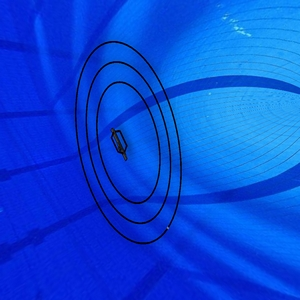circle: (68, 38, 196, 254)
submarine: (107, 127, 134, 164)
